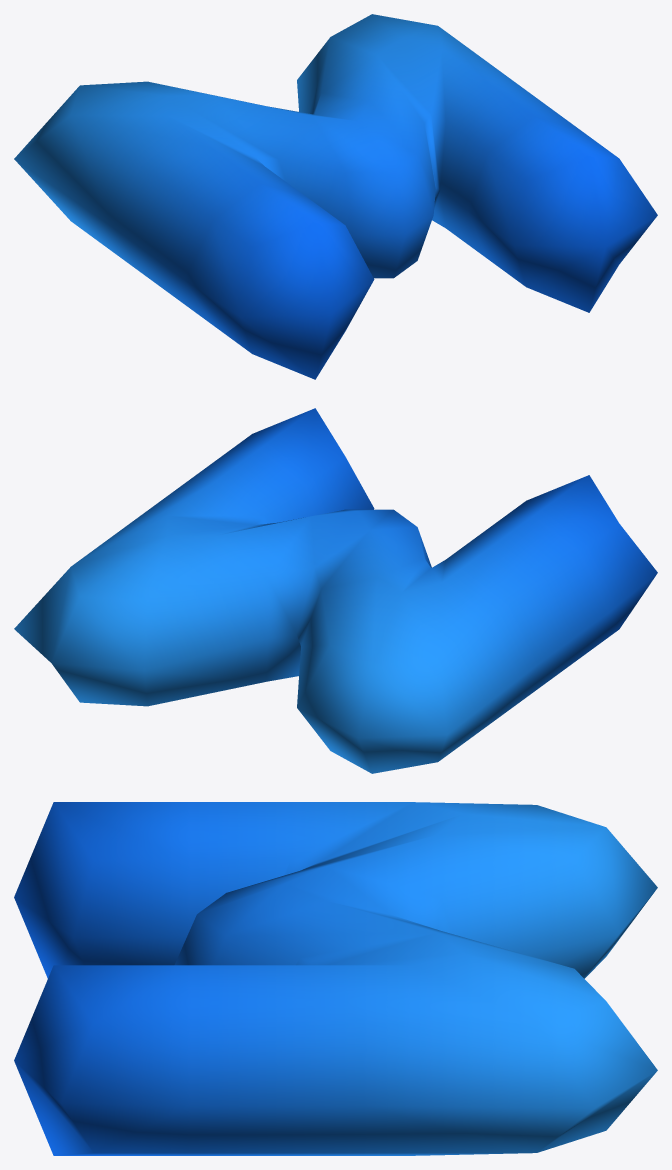
File: CartoonFont_M.FBX
3 views of the same model, one above another, from view 1: azimuth 30°, elevation 25°; view 2: azimuth 150°, elevation 25°; view 3: azimuth 270°, elevation 25° (orthographic). The views are drawn at different scales.
Visible parts, largest first — view 1: M; view 2: M; view 3: M.
Boxes of the visible parts, x1,y1,x2,y2 form: M: (14, 14, 657, 379); M: (14, 408, 657, 773); M: (14, 802, 657, 1155).
Size of the model in its own units: 29.35 by 10.1 by 30.94.
Materials: 1 (1 with a texture image).
